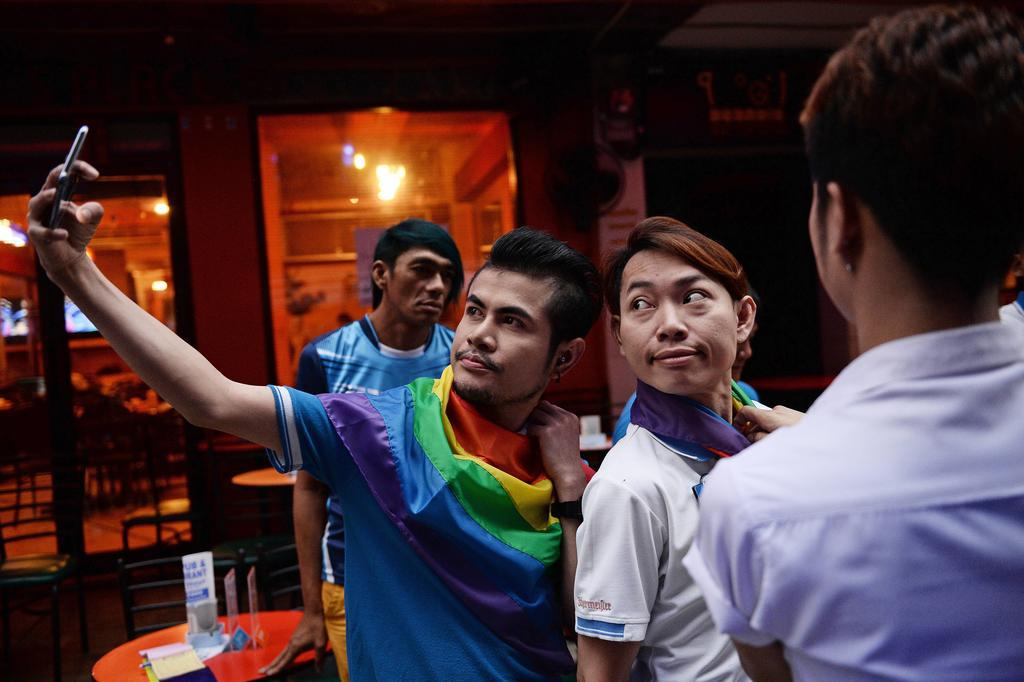Person: (31, 117, 592, 682), (713, 1, 1024, 682), (601, 172, 814, 682), (298, 211, 474, 378)
